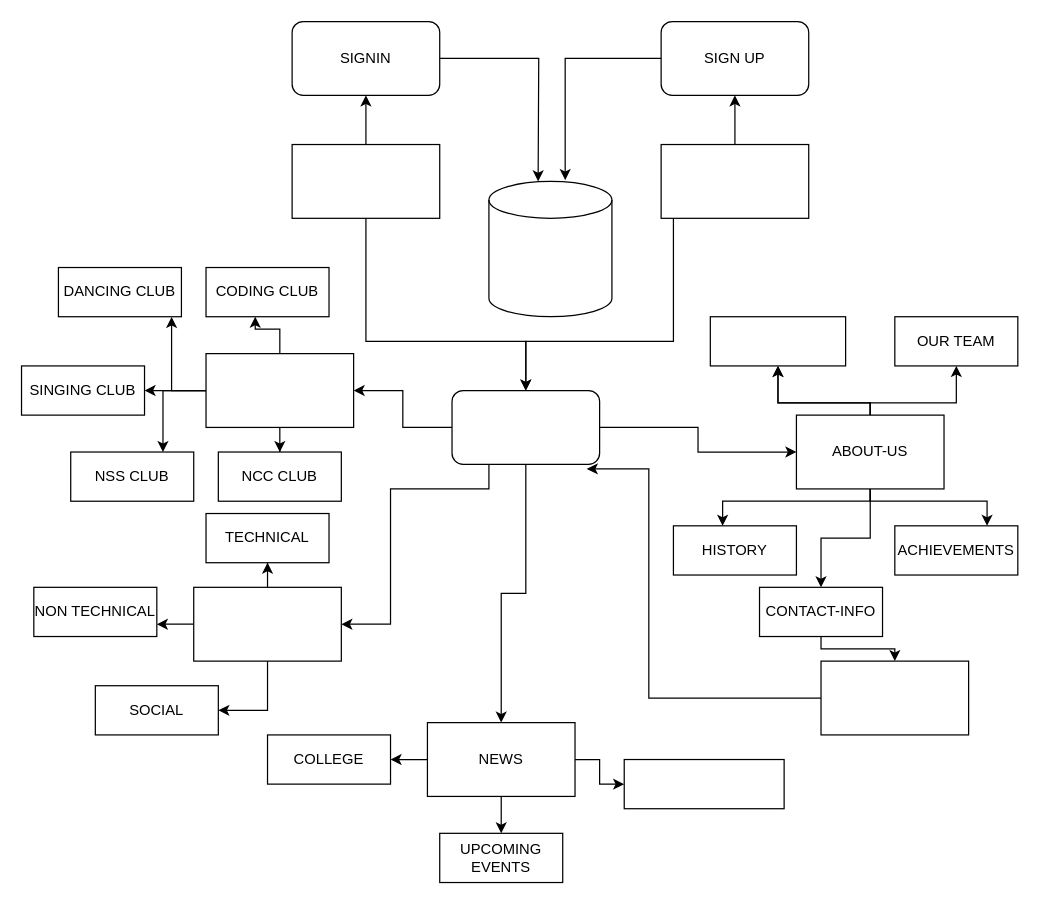
The diagram is 1039 pixels wide and 904 high, and some of its shapes have lost their labels. The shapes that lost their labels are listed below. From the top down, each one's centre as x and y in pixels, then its label:
At (x=365, y=180): "USER LOGIN".
At (x=734, y=180): "REGISTER".
At (x=550, y=248): "Club Management".
At (x=777, y=340): "OUR MISSION".
At (x=279, y=389): "CLUBS".
At (x=525, y=426): "HOME".
At (x=266, y=623): "EVENTS".
At (x=894, y=697): "FEEDBACK".
At (x=703, y=783): "ANNOUNCEMENTS".
